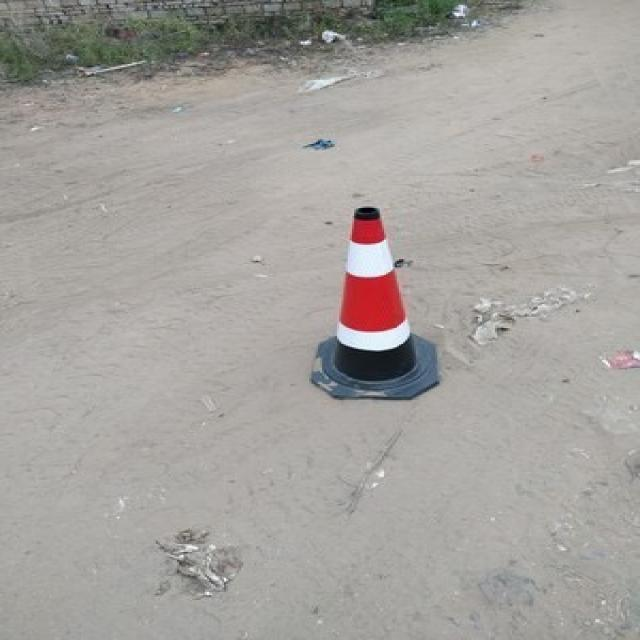reflective_cone: (308, 198, 438, 398)
